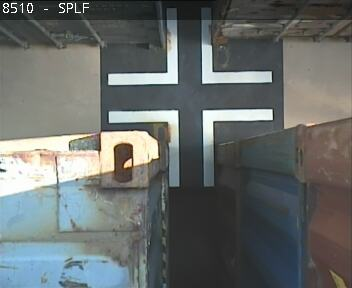groundmarker_1: (108, 108, 273, 185), (108, 7, 272, 84)
